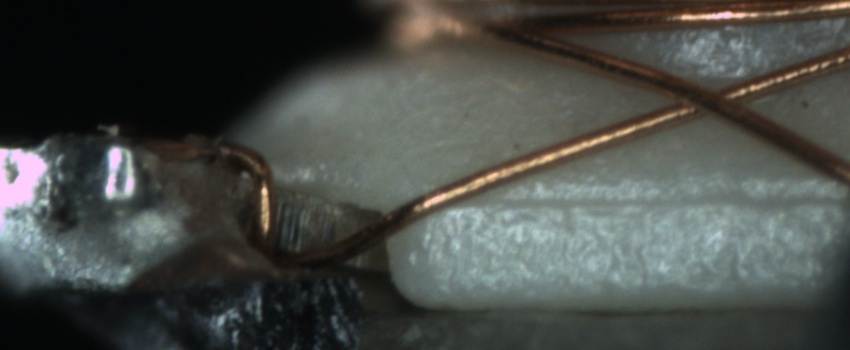CL: (650, 72, 770, 124)
DL: (410, 168, 850, 234)
TE: (159, 135, 288, 265)
